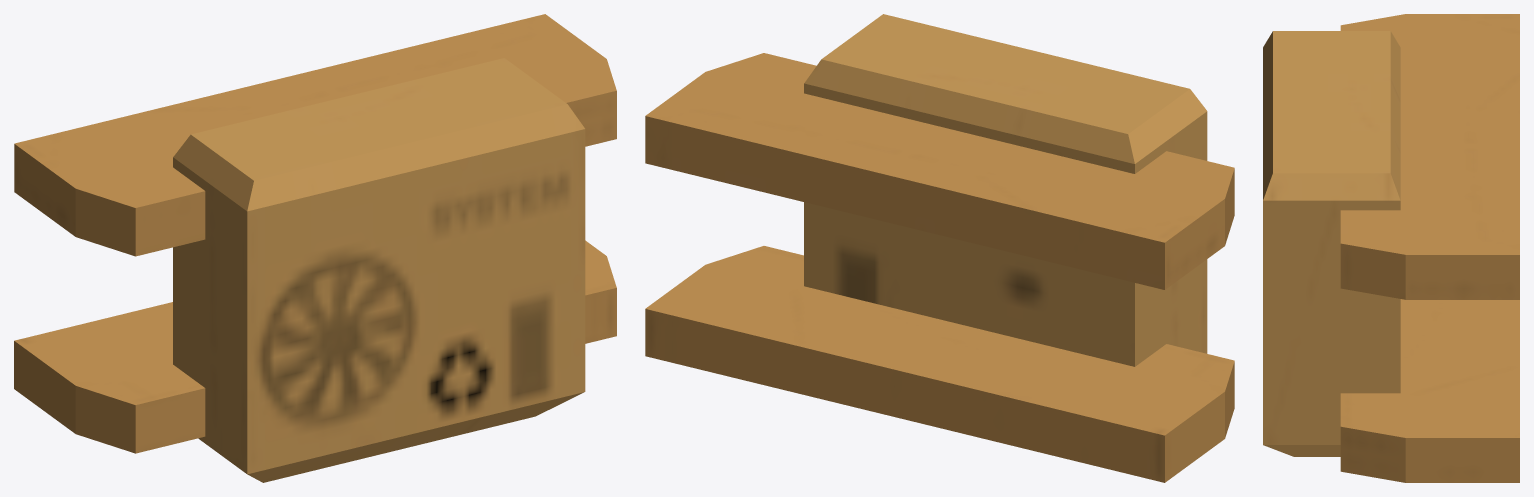
File: Pfb_Soda_ExhaustSystem1__3.fbx
3 views of the same model, side by side, from view 1: azimuth 30°, elevation 25°; view 2: azimuth 150°, elevation 25°; view 3: azimuth 270°, elevation 25° (orthographic). The views are drawn at different scales.
Visible parts, largest first — view 1: MAT_Soda_Pipe 4; view 2: MAT_Soda_Pipe 4; view 3: MAT_Soda_Pipe 4.
Boxes of the visible parts, <box> form: MAT_Soda_Pipe 4: <box>14,14,616,482</box>; MAT_Soda_Pipe 4: <box>645,14,1234,482</box>; MAT_Soda_Pipe 4: <box>1263,14,1519,482</box>.
Bounding box in the file's own units: 0.6179 × 0.3508 × 0.2786.
Materials: 1 (1 with a texture image).
